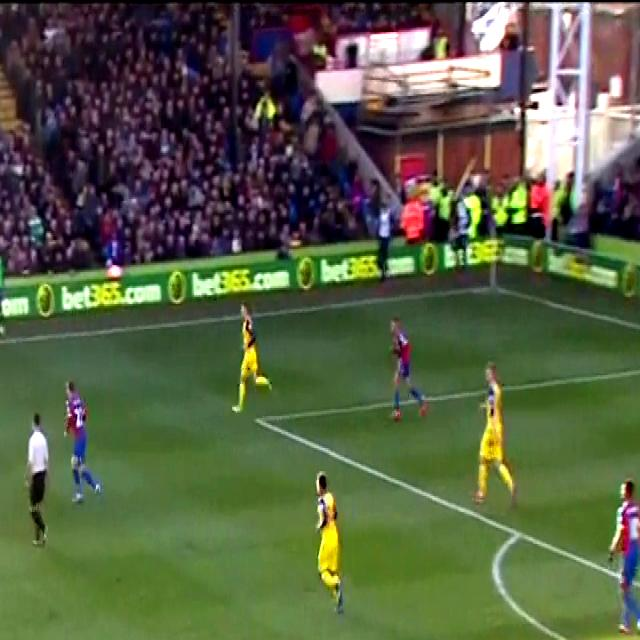referee: (11, 410, 62, 554)
soccer-player: (464, 357, 527, 513), (51, 375, 109, 509), (305, 470, 356, 619), (599, 474, 640, 640), (380, 310, 434, 426), (224, 304, 274, 428)
